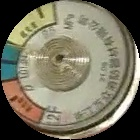green: (2, 42, 23, 80)
red: (1, 80, 47, 126)
yellow: (8, 2, 57, 48)
